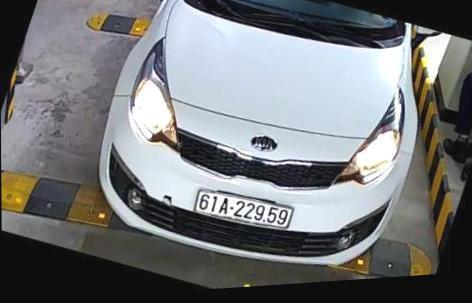License_Plate: (188, 179, 301, 243)
